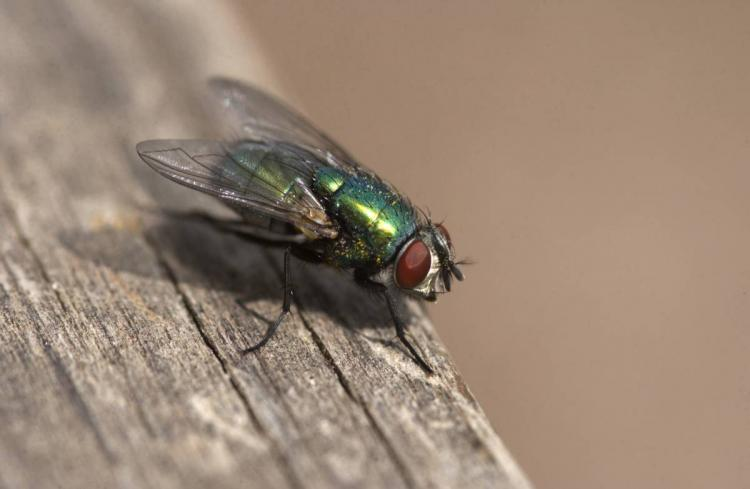green bottles fly: (109, 53, 532, 417)
